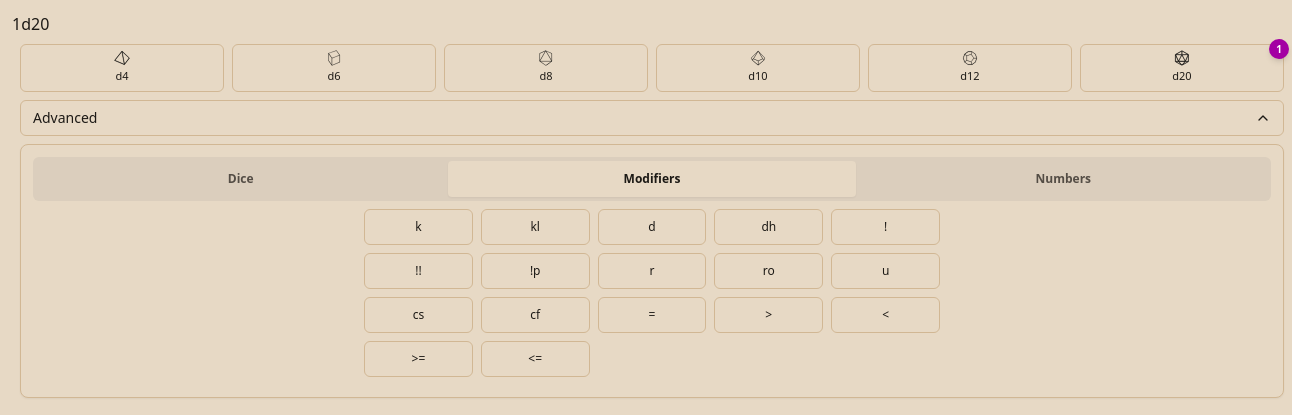
Test: dice notation quick controls › maps reroll labels to the notation parser semantics
This screenshot has width=1292, height=415.
Step 1. Click the button with aria-label "Reroll once" → (769, 271), box [714,253,823,289]
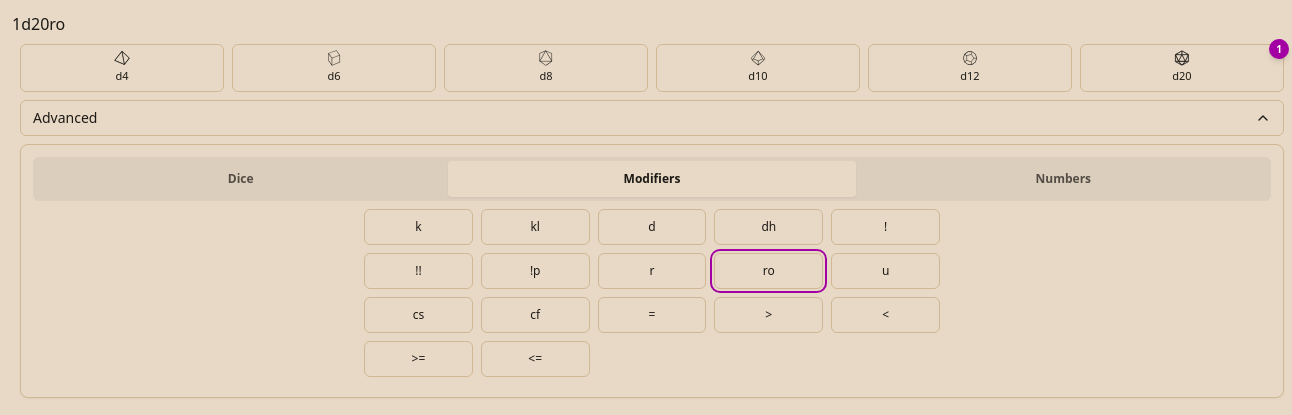
Expected: the button named "Reroll until no match" is shown, [598,253,706,289]
Now the text with test id "notation" reads "1d20ro", box [12,13,65,35]
